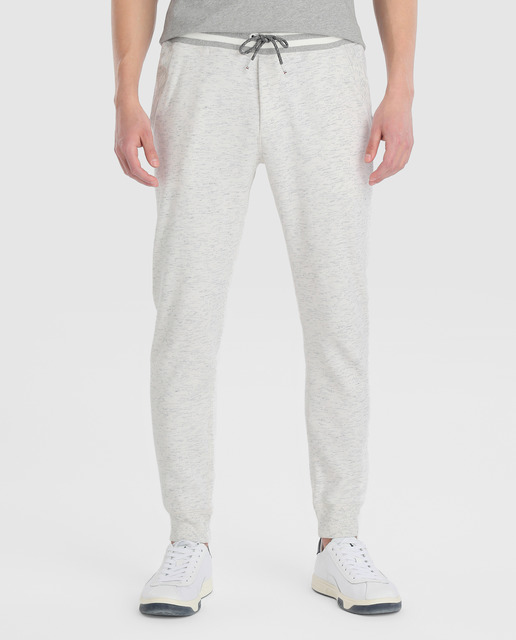feet: (115, 413, 409, 623)
